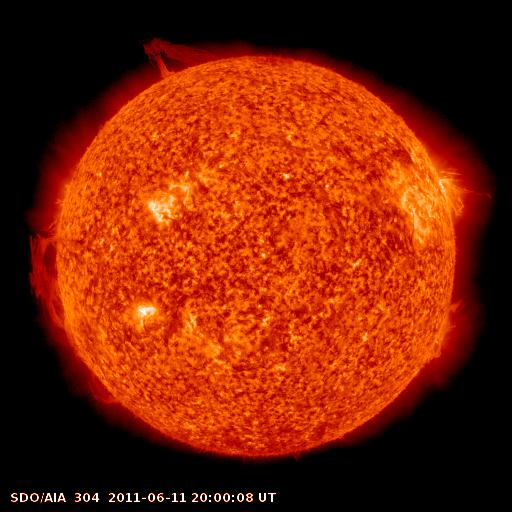prominence: (21, 213, 77, 339), (134, 29, 233, 85), (417, 294, 477, 370), (441, 156, 502, 229)
